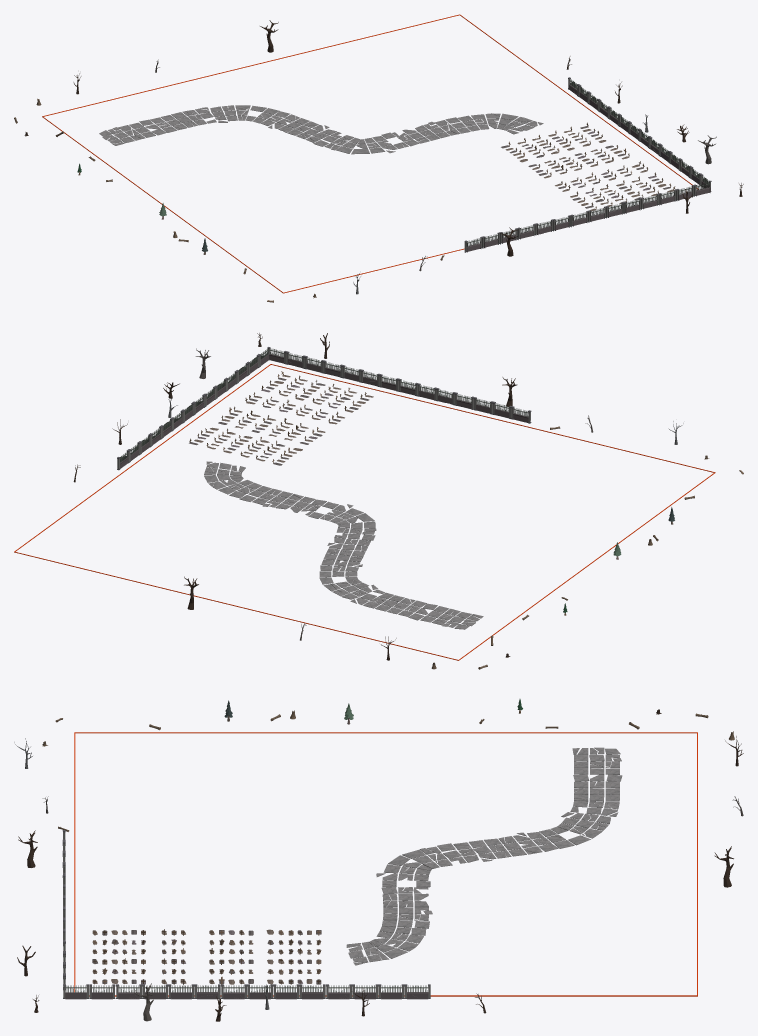
Rendered from EnvNoColliders.fbx.
3 renders of one model, top to bottom at view 1: azimuth 30°, elevation 25°; view 2: azimuth 150°, elevation 25°; view 3: azimuth 270°, elevation 25°, orthographic. The views are drawn at different scales.
Visible parts, largest first — view 1: Road, Fence, Grave, Border, Trees; view 2: Road, Fence, Grave, Border, Trees; view 3: Road, Fence, Grave, Border, Trees.
Boxes of the visible parts, x1,y1,x2,y2 form: Road: [99, 105, 543, 154]; Fence: [464, 77, 711, 252]; Grave: [501, 122, 675, 210]; Border: [42, 14, 698, 293]; Trees: [14, 20, 743, 302]; Road: [204, 461, 483, 629]; Fence: [117, 347, 531, 470]; Grave: [189, 371, 373, 465]; Border: [14, 364, 715, 660]; Trees: [73, 333, 743, 669]; Road: [346, 747, 622, 965]; Fence: [62, 830, 430, 999]; Grave: [92, 929, 321, 984]; Border: [74, 732, 697, 996]; Trees: [14, 699, 743, 1021].
Size of the model in its own units: 1904 by 111 by 1880.
